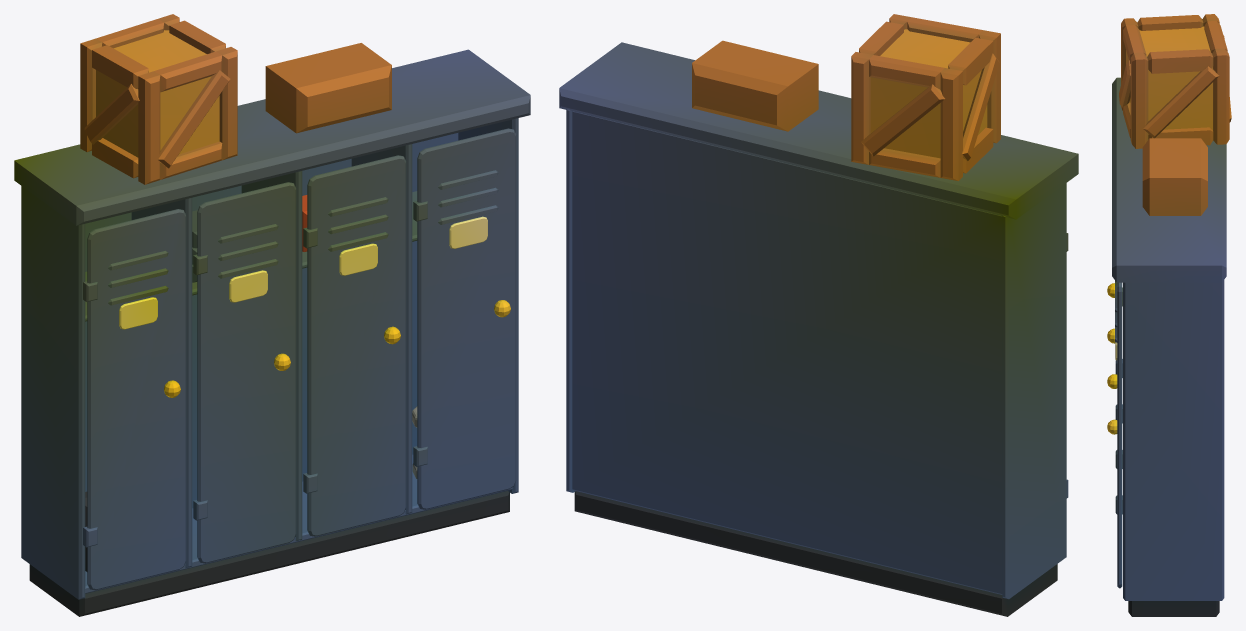
The model's file is Prop_Lockers.glb.
3 renders of one model, left to right at view 1: azimuth 30°, elevation 25°; view 2: azimuth 150°, elevation 25°; view 3: azimuth 270°, elevation 25°, orthographic. The views are drawn at different scales.
Parts seen in each view (by area): view 1: Prop_Lockers, LockerDoor_4, LockerDoor_3, LockerDoor_2, LockerDoor_1; view 2: Prop_Lockers; view 3: Prop_Lockers, LockerDoor_4, LockerDoor_3.
Part boxes in pixels (bbox=[...]): Prop_Lockers: bbox=[14, 14, 530, 616]; LockerDoor_4: bbox=[413, 128, 516, 509]; LockerDoor_3: bbox=[303, 155, 406, 536]; LockerDoor_2: bbox=[193, 182, 296, 563]; LockerDoor_1: bbox=[83, 209, 186, 590]; Prop_Lockers: bbox=[559, 14, 1078, 616]; Prop_Lockers: bbox=[1112, 14, 1231, 616]; LockerDoor_4: bbox=[1107, 282, 1122, 588]; LockerDoor_3: bbox=[1107, 280, 1122, 468].
Size of the model in its own units: 1.9 by 2.1 by 0.5315.
